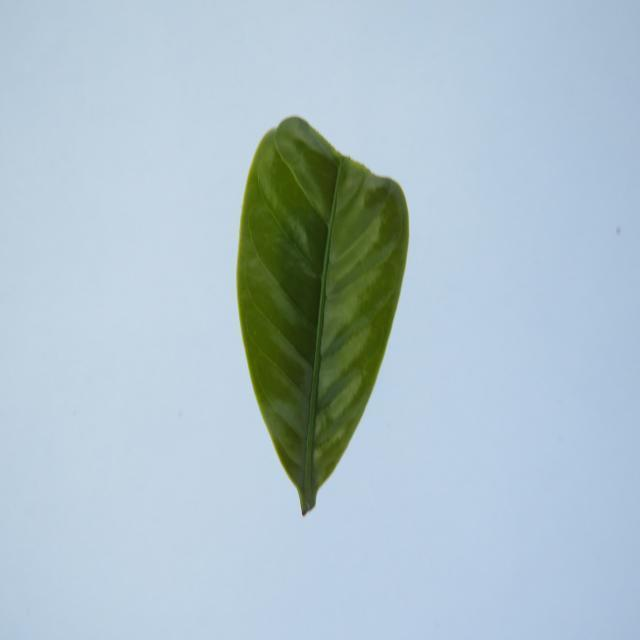DeficienciaNutricional-Boro: (238, 117, 409, 515)
